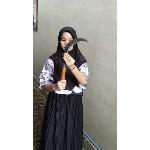Celurit: (59, 38, 93, 86)
